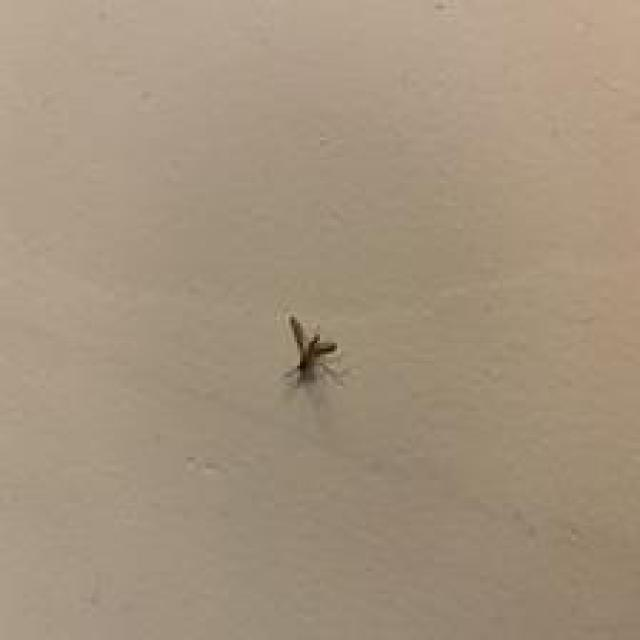Culex: (282, 314, 342, 389)
